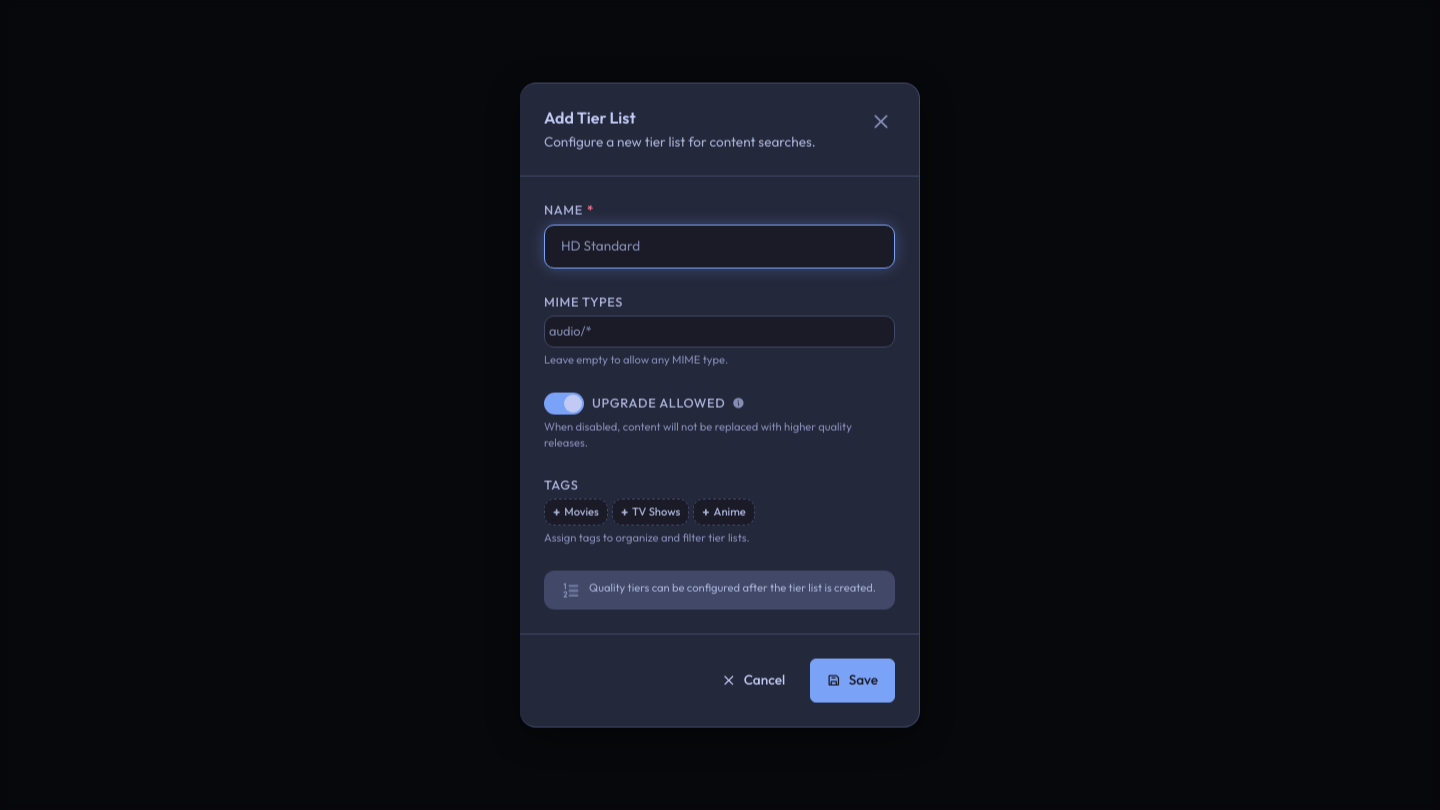
Test case: TierListForm › clears validation error when user starts typing
Step 1. Click the button "Save" → (853, 680), box [810,658,895,702]
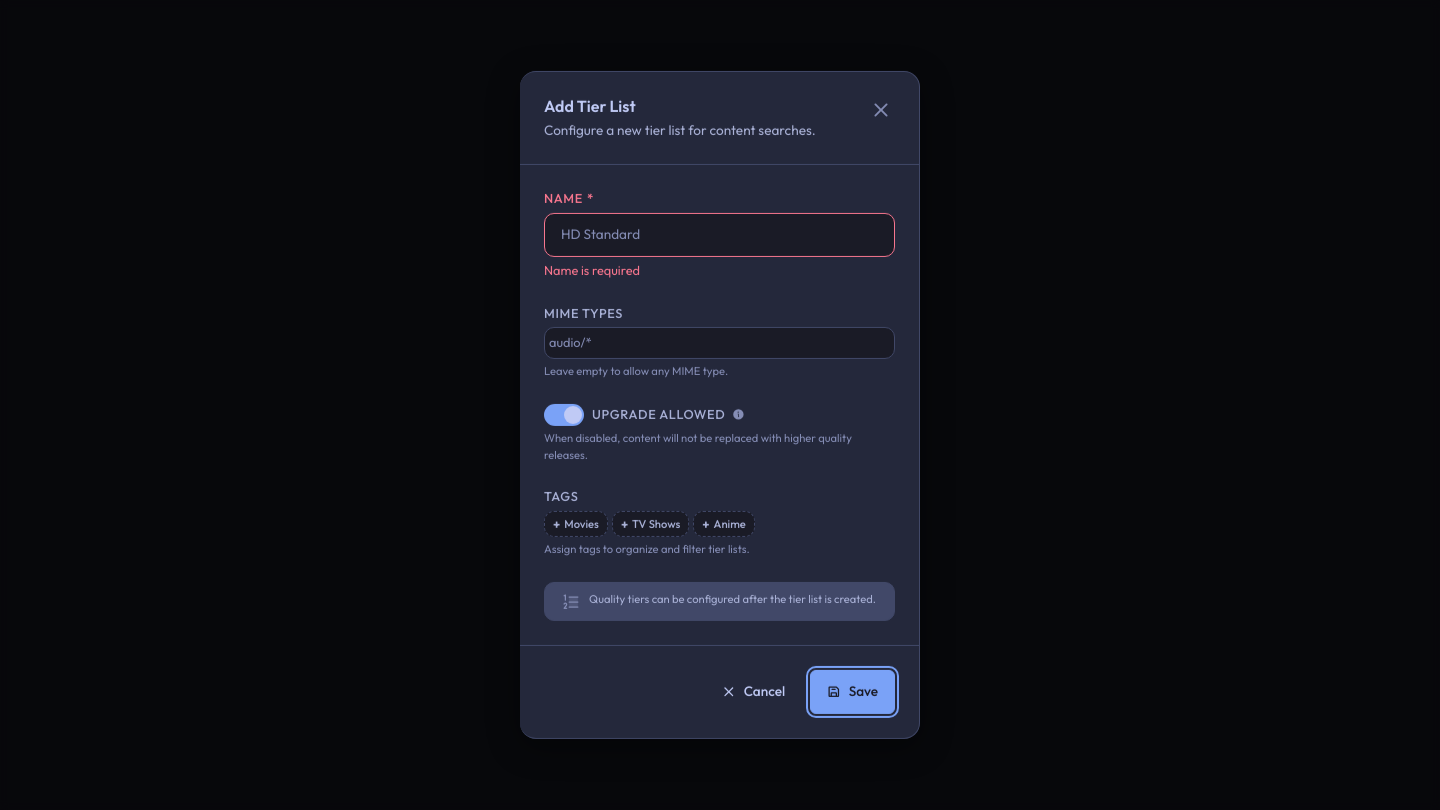
Now the text "Name is required" is shown, box [544,262,640,278]
Step 2. Type "A" into the field labelled "Name *" → (720, 234), box [545,216,894,253]
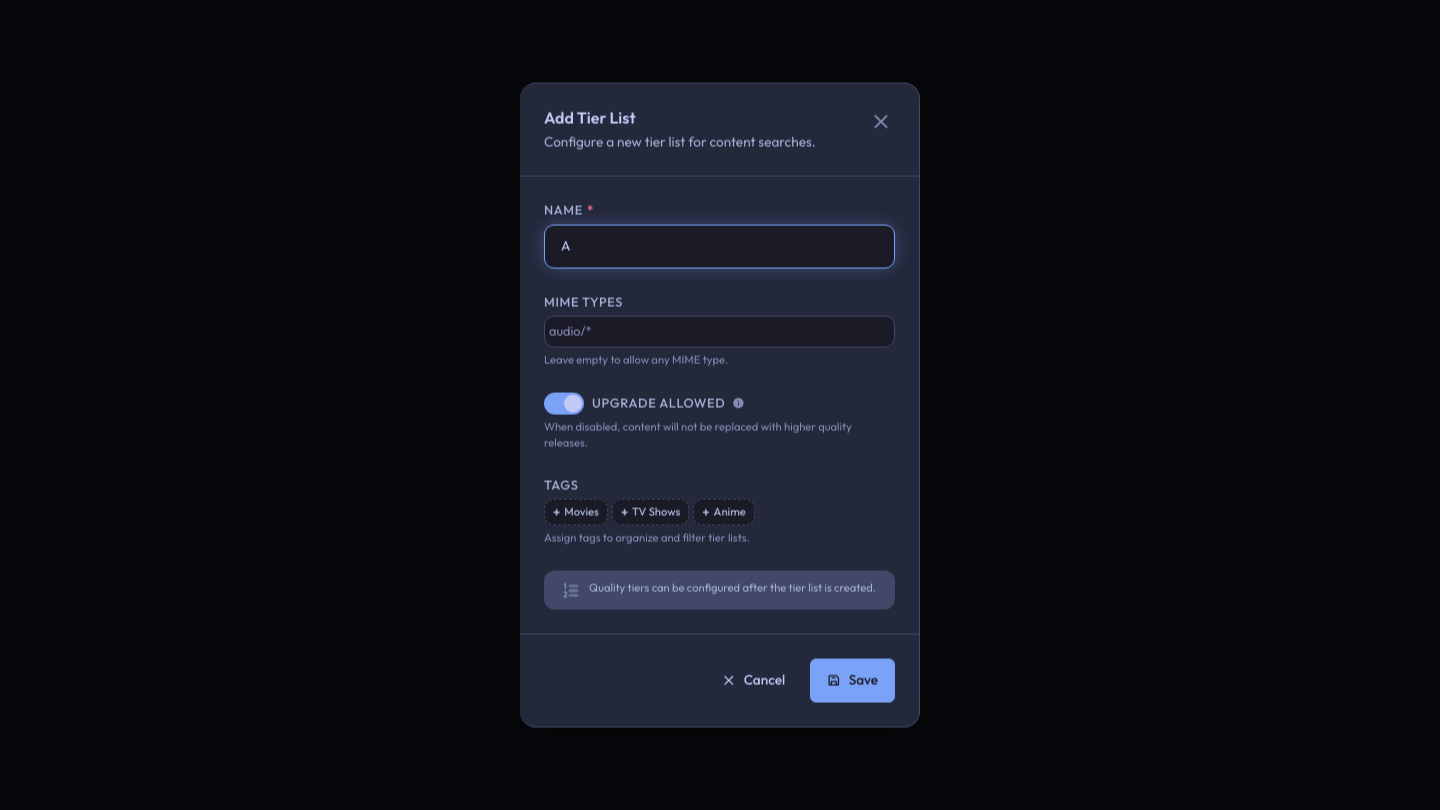
Now the text "Name is required" is gone
